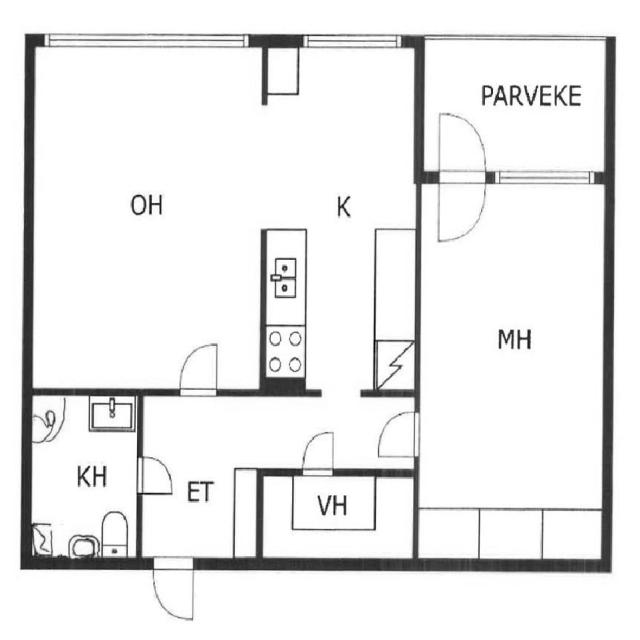door: (431, 107, 489, 243), (149, 555, 200, 628), (171, 336, 226, 402), (373, 408, 423, 462), (133, 451, 180, 501), (296, 424, 339, 478)
window: (35, 54, 256, 380), (45, 23, 258, 62), (296, 23, 410, 57), (488, 162, 600, 193)
zone: (27, 49, 264, 389), (417, 171, 606, 564), (265, 41, 419, 400), (420, 34, 610, 174), (133, 398, 267, 564), (26, 391, 141, 564), (258, 472, 417, 570), (262, 229, 308, 385)
